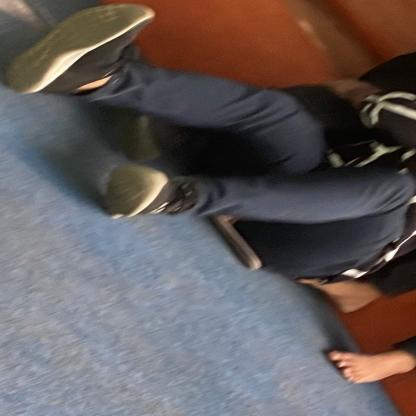leg: (0, 6, 338, 140), (67, 153, 393, 236), (318, 336, 416, 388)
